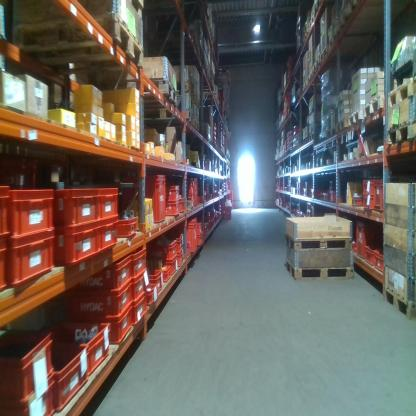pallet: (9, 14, 144, 76), (99, 76, 178, 113), (286, 258, 356, 280), (286, 232, 352, 252), (383, 285, 415, 321), (387, 77, 414, 114), (385, 123, 415, 148), (142, 113, 194, 127), (364, 93, 385, 122), (337, 13, 355, 36), (348, 107, 364, 132), (337, 118, 347, 139), (328, 38, 337, 55), (318, 46, 326, 63), (326, 127, 333, 145), (309, 130, 316, 147), (303, 134, 309, 151)
small_load_carrier: (33, 321, 109, 371), (1, 328, 53, 400), (66, 281, 133, 326), (9, 233, 57, 291), (10, 187, 55, 239), (67, 257, 130, 294), (56, 344, 89, 410), (121, 176, 167, 220), (0, 382, 57, 415), (50, 189, 98, 228), (55, 224, 97, 266), (99, 304, 133, 345), (92, 186, 121, 226), (355, 217, 380, 262), (94, 219, 120, 254), (114, 215, 140, 246), (149, 237, 178, 262), (0, 238, 11, 298), (131, 246, 150, 280), (1, 186, 12, 243), (132, 270, 147, 306), (131, 296, 147, 327), (185, 217, 197, 258), (146, 268, 163, 292), (145, 281, 158, 306), (155, 265, 172, 284), (373, 180, 383, 211), (162, 183, 179, 201), (169, 258, 180, 284), (363, 244, 374, 265), (192, 178, 199, 210), (374, 249, 384, 270), (165, 201, 178, 217), (178, 248, 188, 268), (362, 178, 373, 196), (175, 233, 183, 255), (329, 187, 340, 203), (181, 178, 194, 191), (362, 196, 374, 210), (179, 197, 187, 215), (224, 204, 233, 219), (352, 196, 363, 207), (196, 224, 202, 238), (181, 188, 193, 195), (198, 236, 204, 244)
